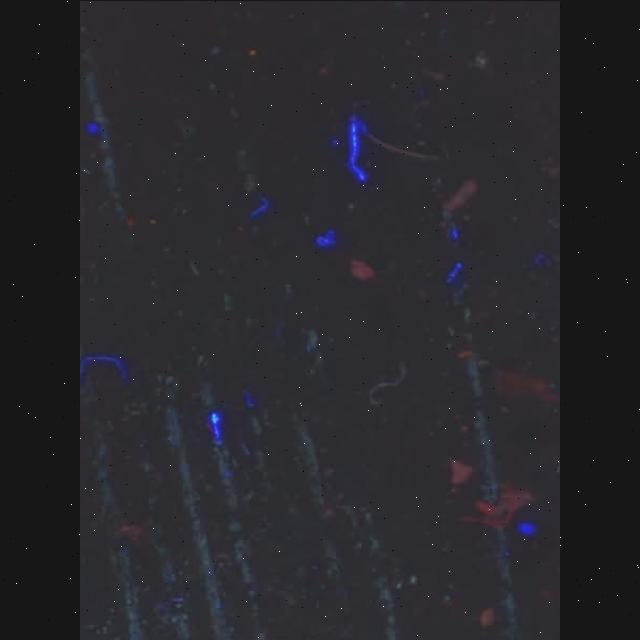Fibre: (370, 363, 407, 404)
